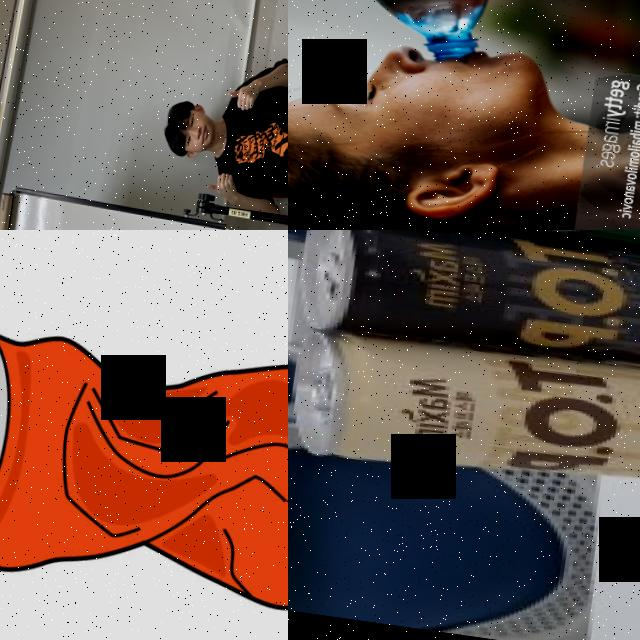bottle: (288, 0, 526, 70)
can: (288, 323, 640, 532), (292, 230, 640, 404)
